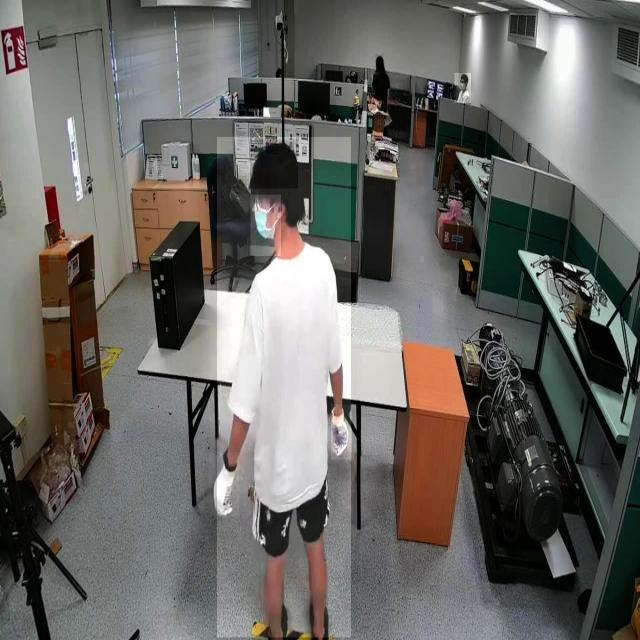gloves: (208, 452, 240, 518), (331, 404, 352, 460)
